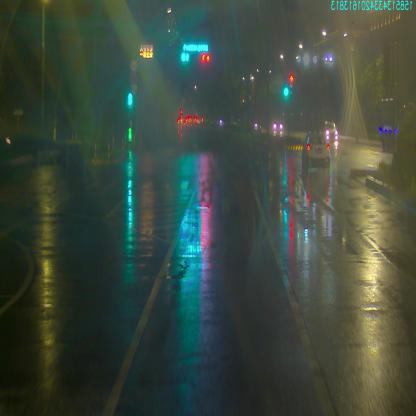traffic-light: (182, 42, 210, 52), (180, 53, 190, 64), (201, 53, 210, 61)
